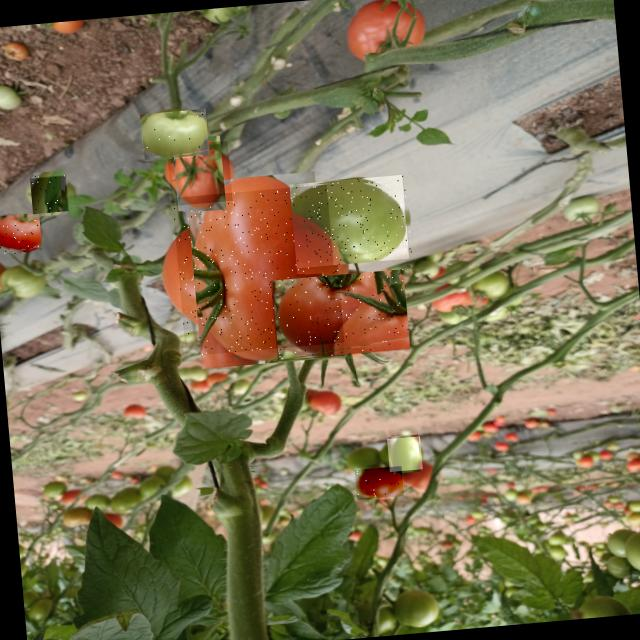Ripe Tomato: (172, 184, 344, 356), (270, 268, 410, 360), (166, 140, 232, 206), (0, 212, 42, 255), (354, 466, 404, 500)
Unripe Tomato: (290, 174, 412, 268), (140, 108, 210, 161), (30, 172, 71, 213), (387, 436, 422, 472)
